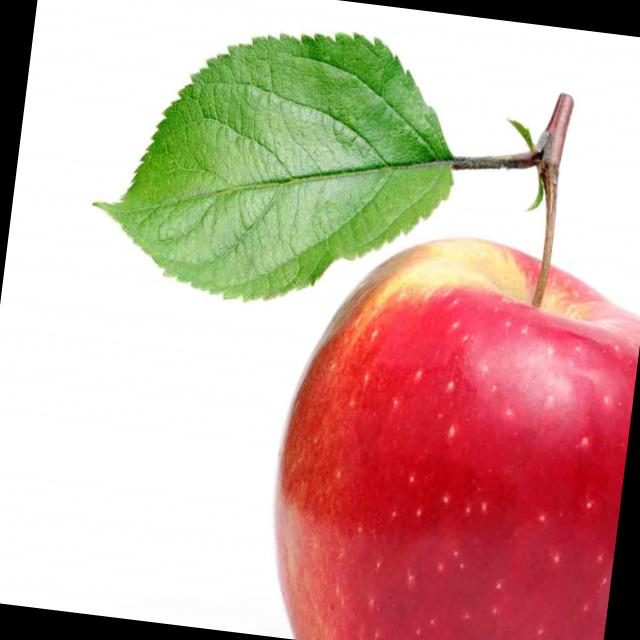apple: (255, 219, 640, 640)
